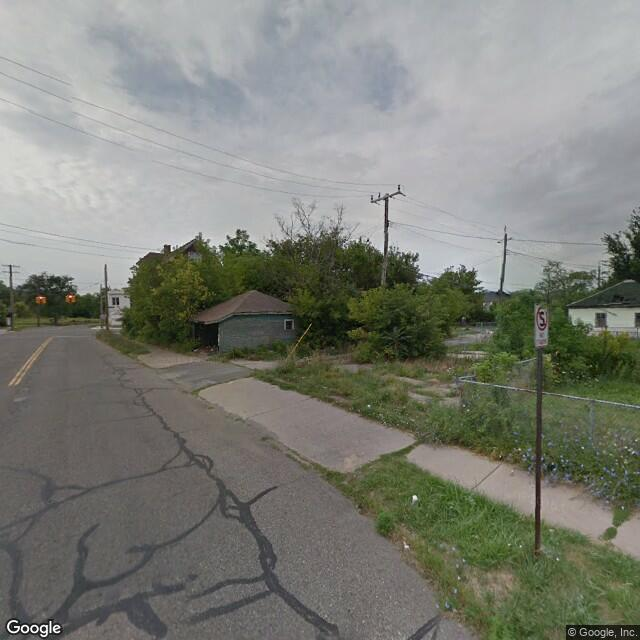litter: (401, 543, 413, 550), (191, 346, 199, 353), (366, 403, 371, 411), (412, 491, 416, 496), (209, 347, 215, 350)
